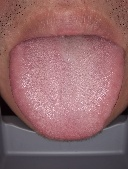tongue: (8, 44, 125, 142)
